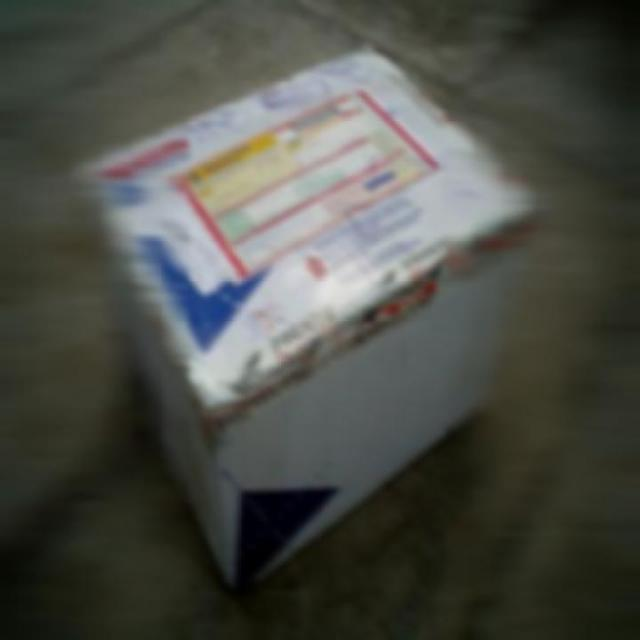box: (97, 44, 548, 598)
